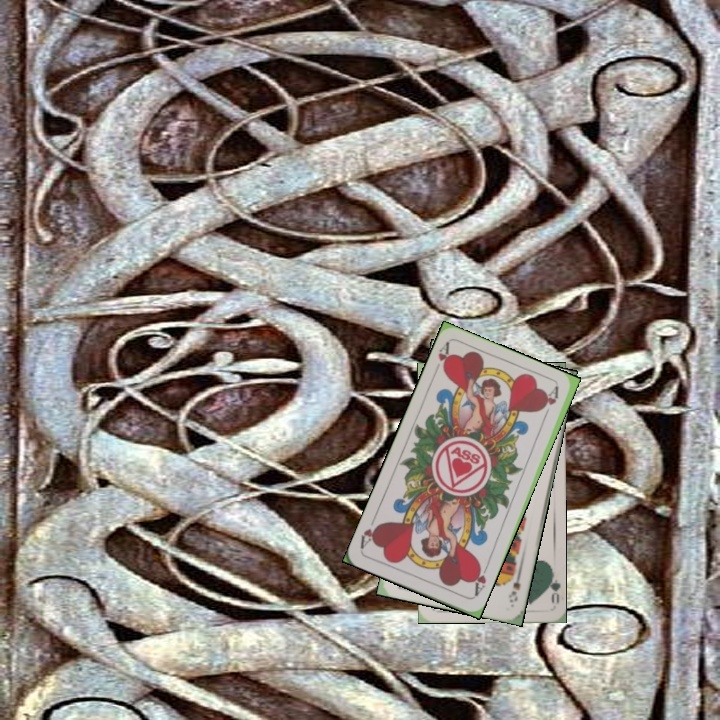GO: (542, 566, 562, 606)
HA: (429, 339, 454, 378), (468, 559, 491, 599)
S9: (504, 567, 524, 605)
